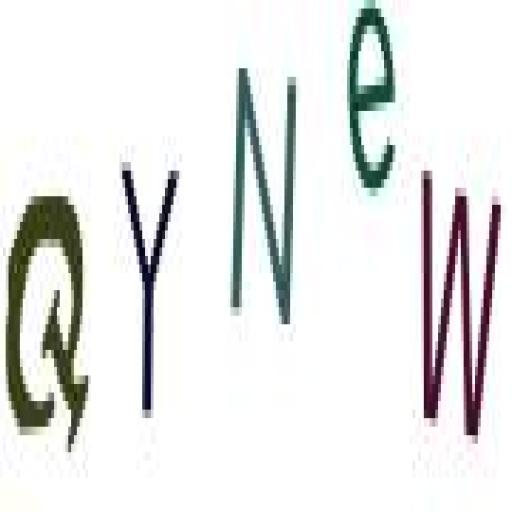N: (229, 52, 301, 367)
Q: (0, 184, 98, 456)
W: (416, 147, 504, 462)
Y: (116, 139, 182, 434)
e: (344, 4, 402, 202)
